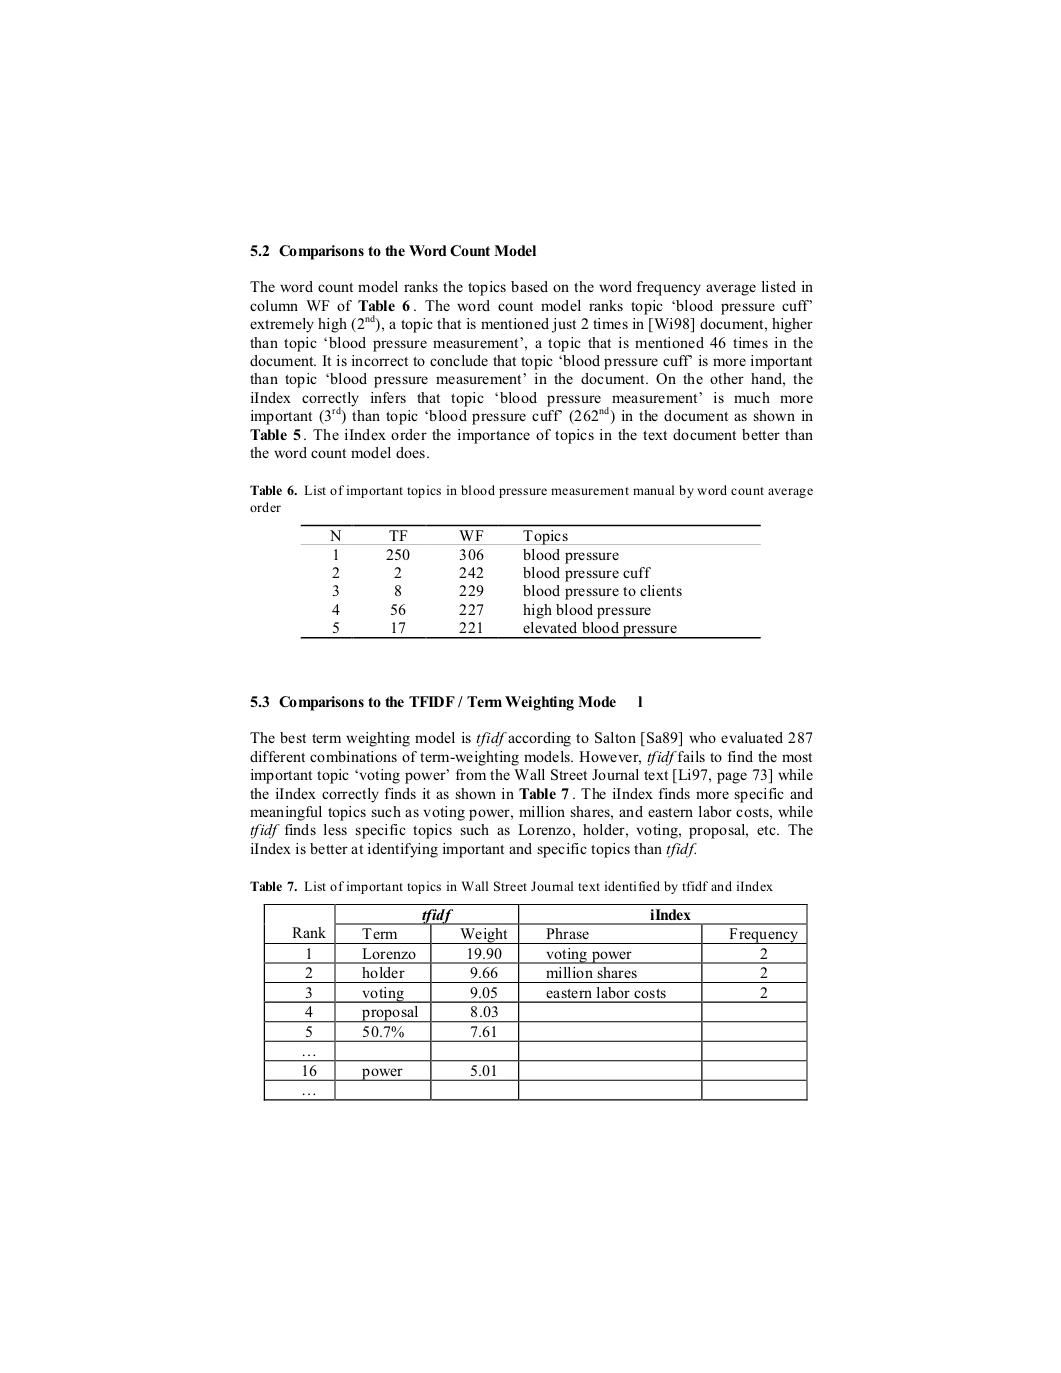Table: (263, 902, 807, 1101), (300, 524, 760, 637)
